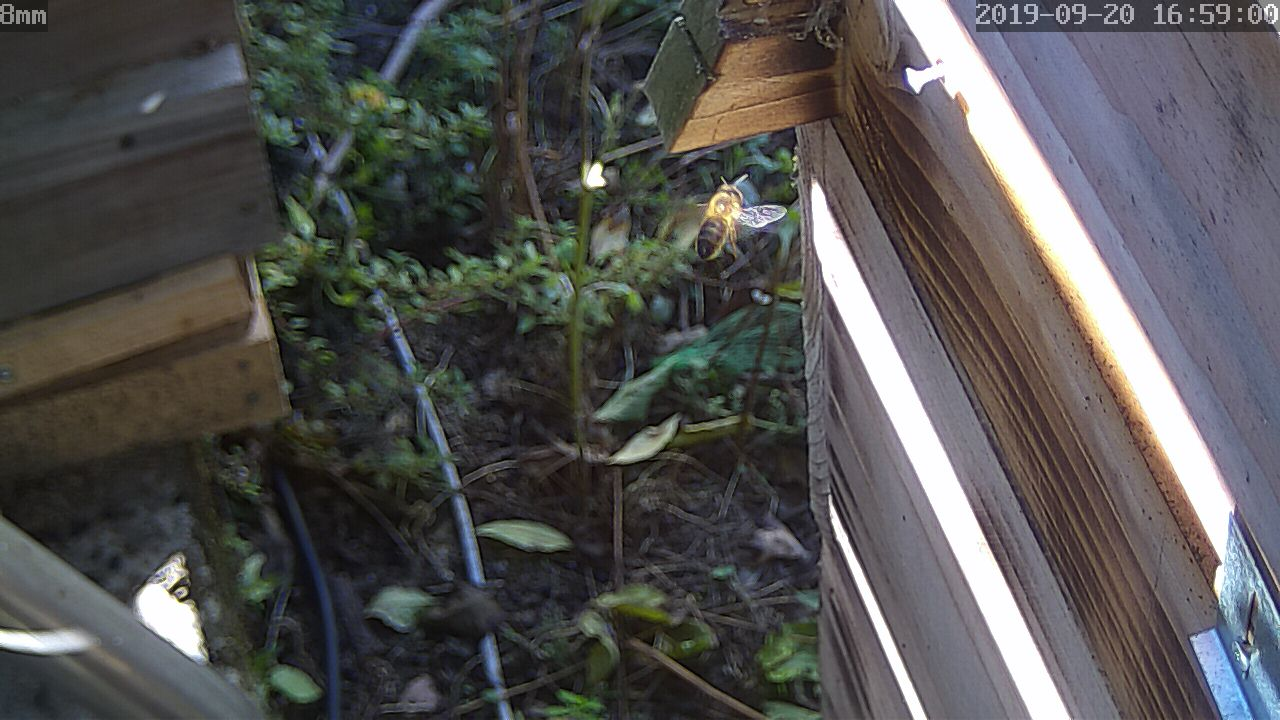hornet: (54, 30, 1279, 665)
